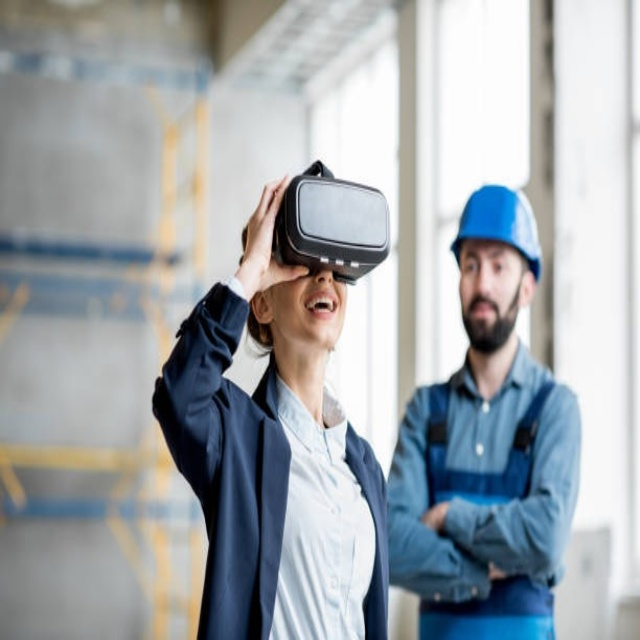Sin_gafas: (461, 246, 512, 285)
Sin_guantes: (234, 176, 312, 289)
Sin_mascara: (302, 285, 344, 337), (462, 293, 503, 336)
